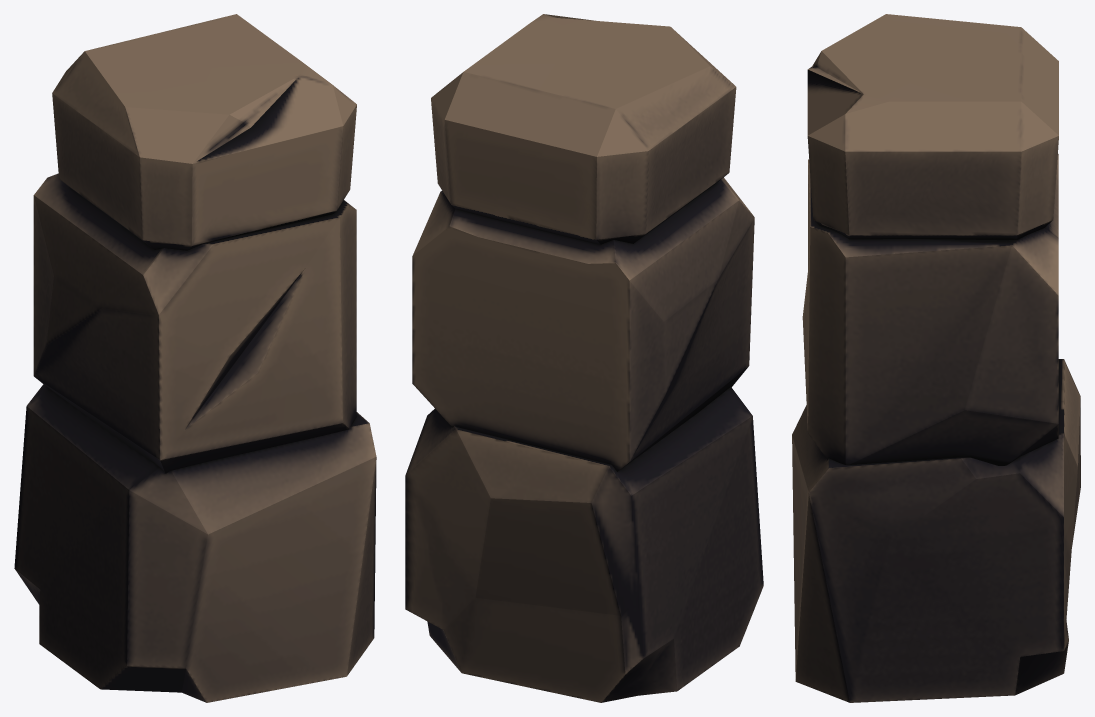
The model's file is Rock.fbx.
The picture shows the model from 3 angles, left to right: view 1: azimuth 30°, elevation 25°; view 2: azimuth 150°, elevation 25°; view 3: azimuth 270°, elevation 25°; orthographic projection.
Visible parts, largest first — view 1: Rock; view 2: Rock; view 3: Rock.
Boxes of the visible parts, x1,y1,x2,y2 form: Rock: (14, 14, 376, 702); Rock: (405, 14, 763, 702); Rock: (792, 14, 1080, 702).
Bounding box in the file's own units: 205 × 441 × 198.
Materials: 1 (1 with a texture image).
